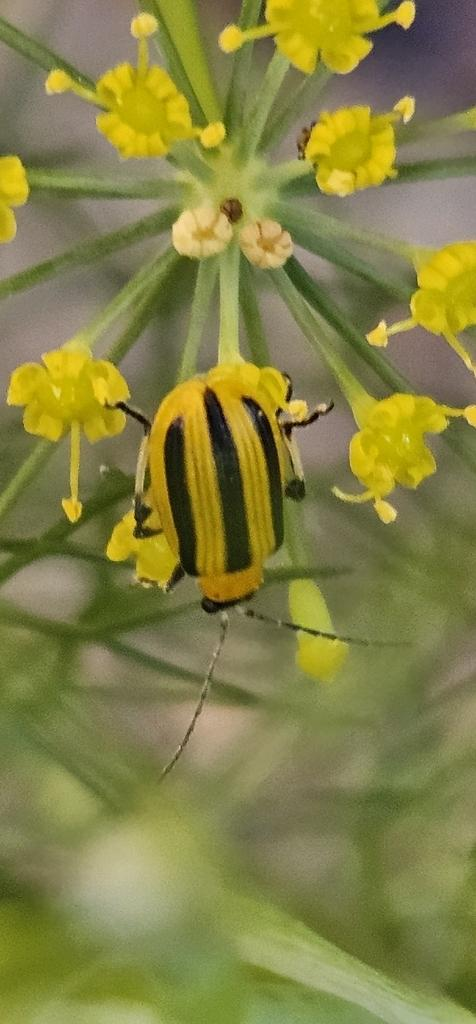potato_beetle: (64, 333, 460, 843)
